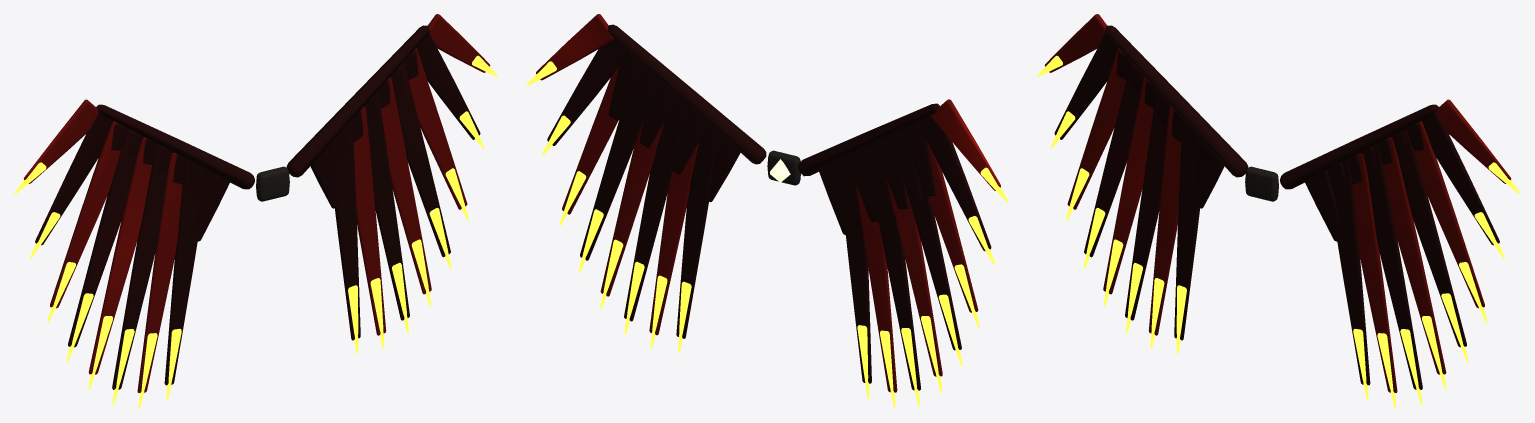
The model's file is Asas_Brasalume.fbx.
The picture shows the model from 3 angles, left to right: view 1: azimuth 30°, elevation 25°; view 2: azimuth 150°, elevation 25°; view 3: azimuth 330°, elevation 25°; orthographic projection.
Visible parts, largest first — view 1: WingR, WingL, Wings; view 2: WingL, WingR, Wings; view 3: WingL, WingR, Wings.
Boxes of the visible parts, x1,y1,x2,y2 form: WingR: (14,99,254,408); WingL: (286,14,497,354); Wings: (256,166,289,201); WingL: (526,14,766,352); WingR: (798,99,1008,408); Wings: (767,150,800,185); WingL: (1280,99,1520,408); WingR: (1037,14,1248,354); Wings: (1245,166,1278,201).
Bounding box in the file's own units: 2.53 × 1.61 × 0.1813.
